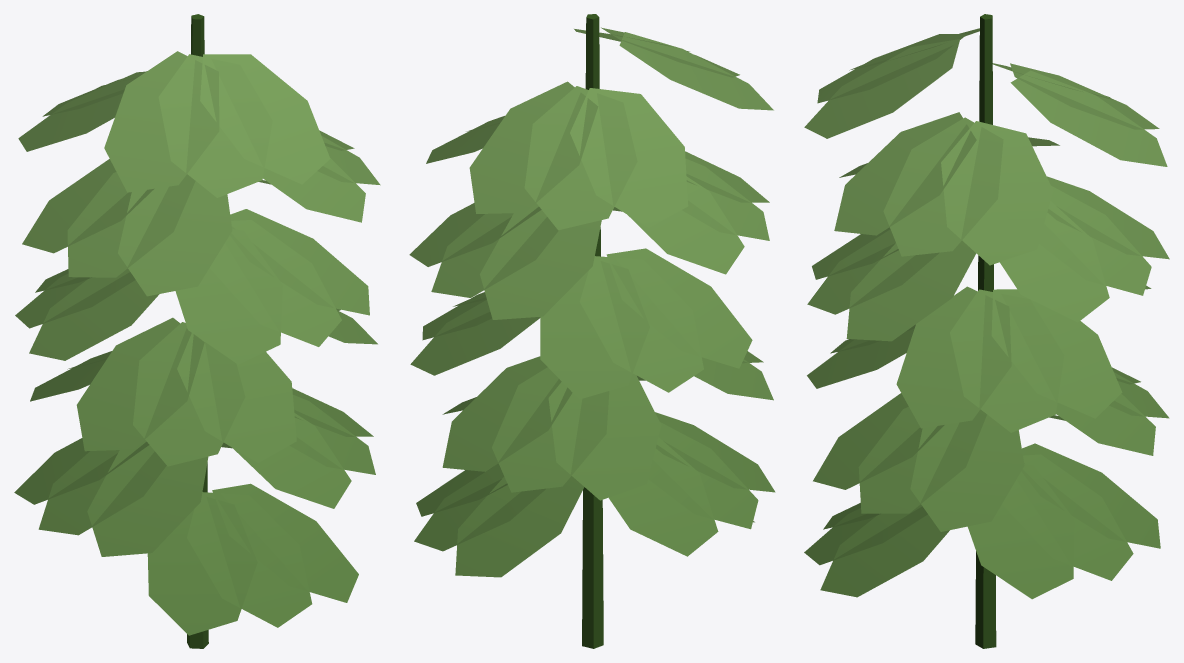
Rendered from soybean.glb.
3 renders of one model, left to right at view 1: azimuth 30°, elevation 25°; view 2: azimuth 150°, elevation 25°; view 3: azimuth 270°, elevation 25°, orthographic.
Visible parts, largest first — view 1: soybean; view 2: soybean; view 3: soybean.
Boxes of the visible parts, x1,y1,x2,y2 form: soybean: [14, 14, 380, 648]; soybean: [409, 14, 775, 648]; soybean: [804, 14, 1169, 648].
Size of the model in its own units: 0.3177 by 0.6 by 0.3171.
